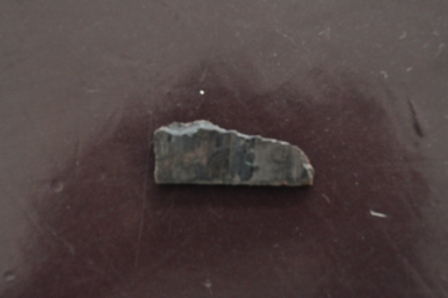METAL PIECE: (152, 118, 315, 188)
